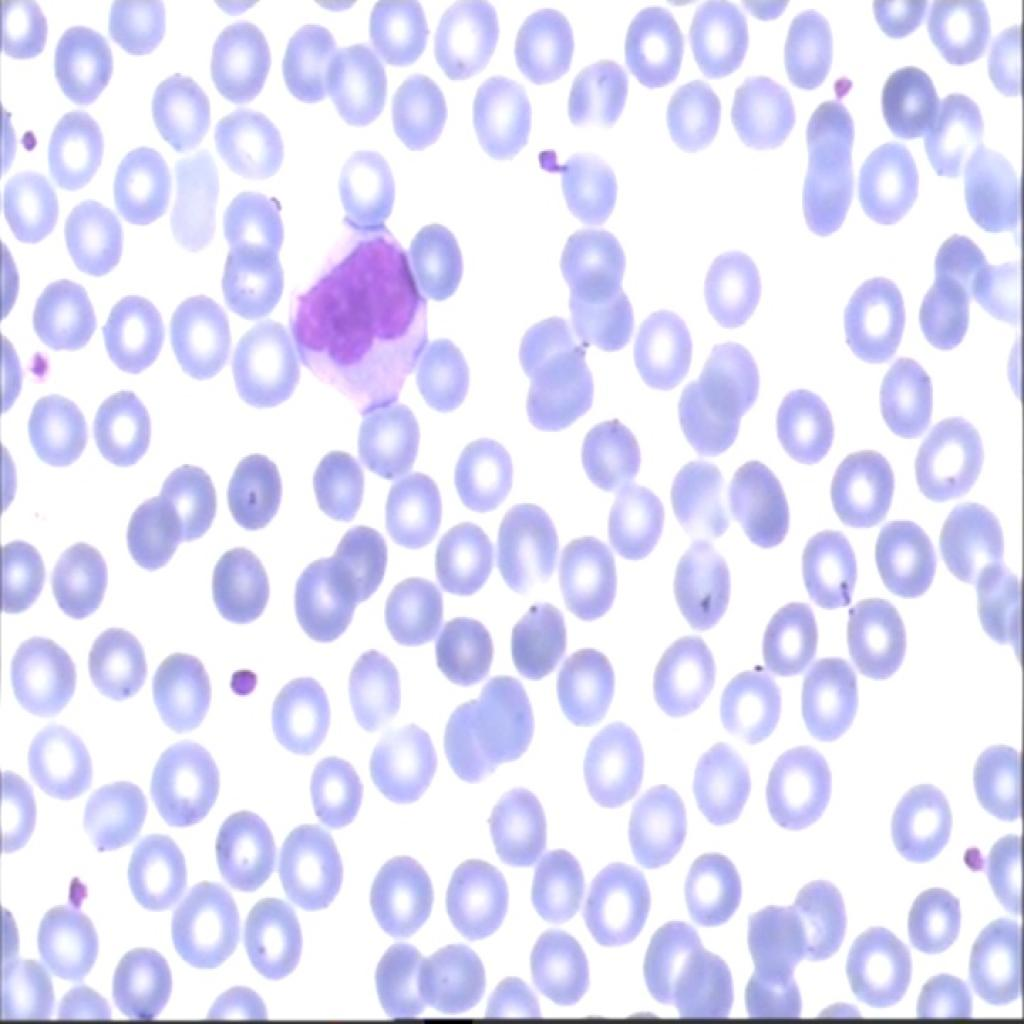Monosit: (286, 222, 428, 404)
Platelet: (946, 823, 990, 884), (51, 868, 95, 910), (530, 140, 570, 185), (14, 119, 51, 167), (22, 340, 56, 391), (218, 656, 253, 702), (830, 70, 858, 110)
